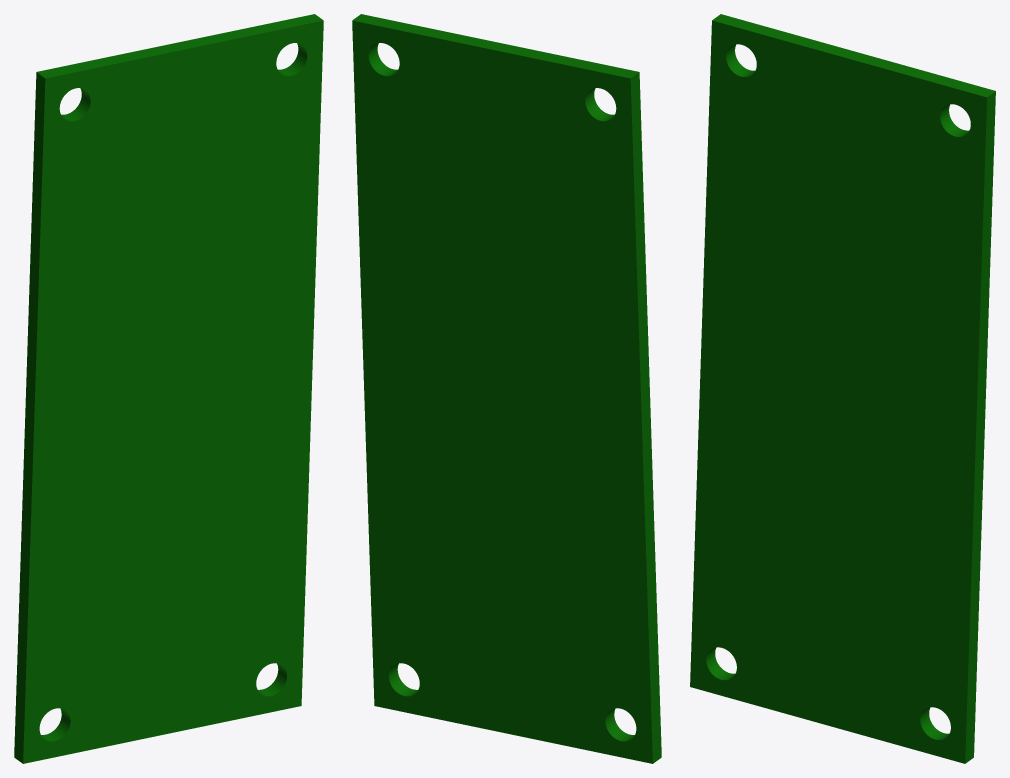
The model's file is carte_elec.glb.
3 views of the same model, side by side, from view 1: azimuth 30°, elevation 25°; view 2: azimuth 150°, elevation 25°; view 3: azimuth 330°, elevation 25° (orthographic).
Visible parts, largest first — view 1: Assem1 - carte_elec-1; view 2: Assem1 - carte_elec-1; view 3: Assem1 - carte_elec-1.
Part boxes in pixels (x1=…): Assem1 - carte_elec-1: x1=14, y1=14, x2=323, y2=763; Assem1 - carte_elec-1: x1=352, y1=14, x2=661, y2=763; Assem1 - carte_elec-1: x1=690, y1=14, x2=995, y2=763.
Size of the model in its own units: 48.57 by 106 by 2.5.
